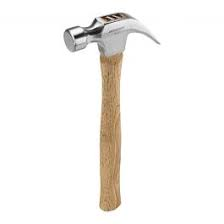hammer: (64, 11, 161, 211)
